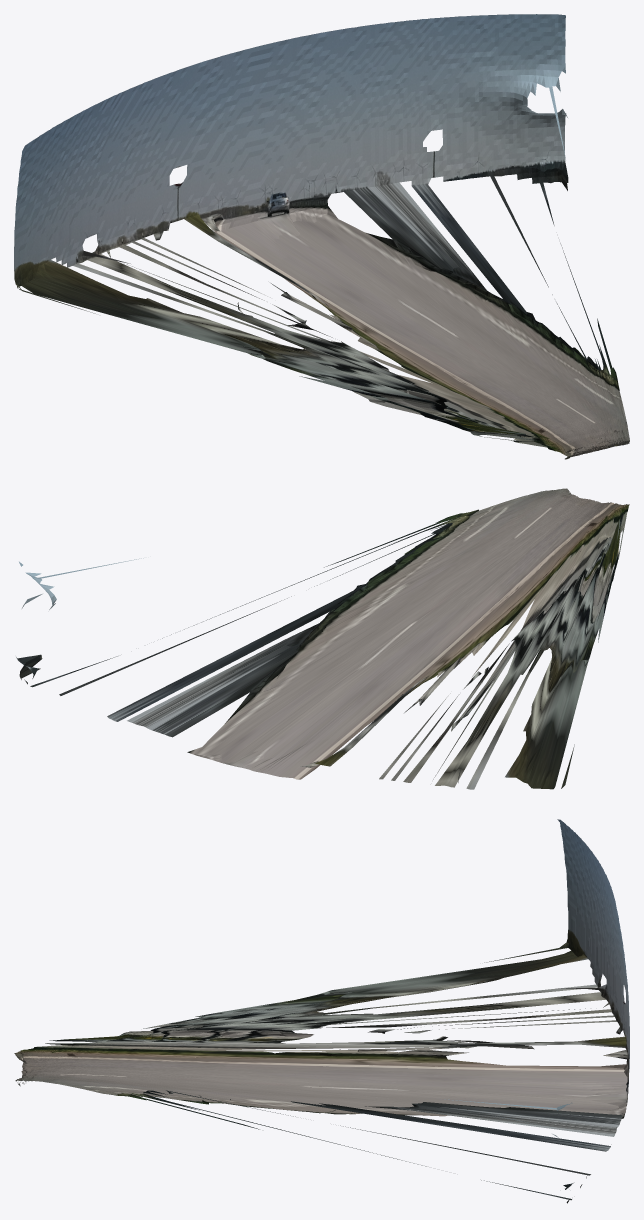
3 renders of one model, top to bottom at view 1: azimuth 30°, elevation 25°; view 2: azimuth 150°, elevation 25°; view 3: azimuth 270°, elevation 25°, orthographic. The views are drawn at different scales.
Visible parts, largest first — view 1: defaultobject; view 2: defaultobject; view 3: defaultobject.
Boxes of the visible parts, x1,y1,x2,y2 form: defaultobject: [14, 14, 629, 459]; defaultobject: [16, 488, 629, 789]; defaultobject: [14, 819, 629, 1203].
Size of the model in its own units: 41.09 by 13.35 by 44.57.
1 material, 1 textured.
